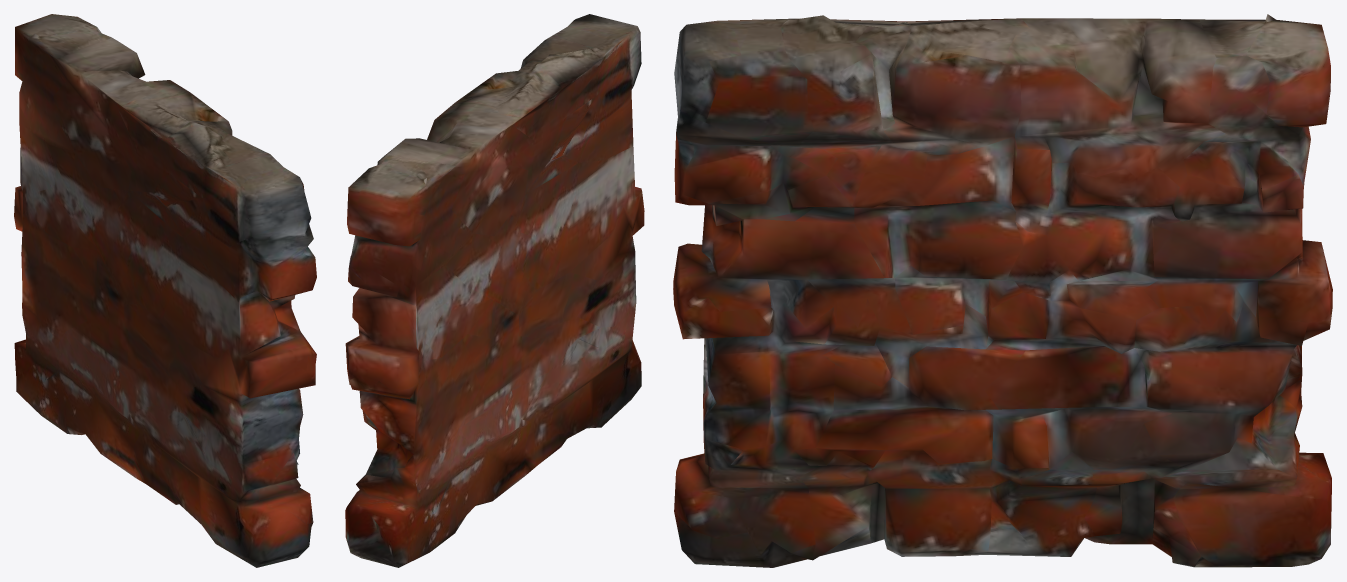
The model's file is 红砖墙面板glb.glb.
3 views of the same model, side by side, from view 1: azimuth 30°, elevation 25°; view 2: azimuth 150°, elevation 25°; view 3: azimuth 270°, elevation 25° (orthographic). The views are drawn at different scales.
Parts seen in each view (by area): view 1: tripo_node_8e7ac4f9-b848-4469-9177-0cda26738717; view 2: tripo_node_8e7ac4f9-b848-4469-9177-0cda26738717; view 3: tripo_node_8e7ac4f9-b848-4469-9177-0cda26738717.
Boxes of the visible parts, bbox=[...] form: tripo_node_8e7ac4f9-b848-4469-9177-0cda26738717: bbox=[14, 14, 316, 567]; tripo_node_8e7ac4f9-b848-4469-9177-0cda26738717: bbox=[345, 14, 644, 567]; tripo_node_8e7ac4f9-b848-4469-9177-0cda26738717: bbox=[673, 14, 1332, 567].
Size of the model in its own units: 0.1702 by 0.8768 by 0.9995.
1 material, 1 textured.
